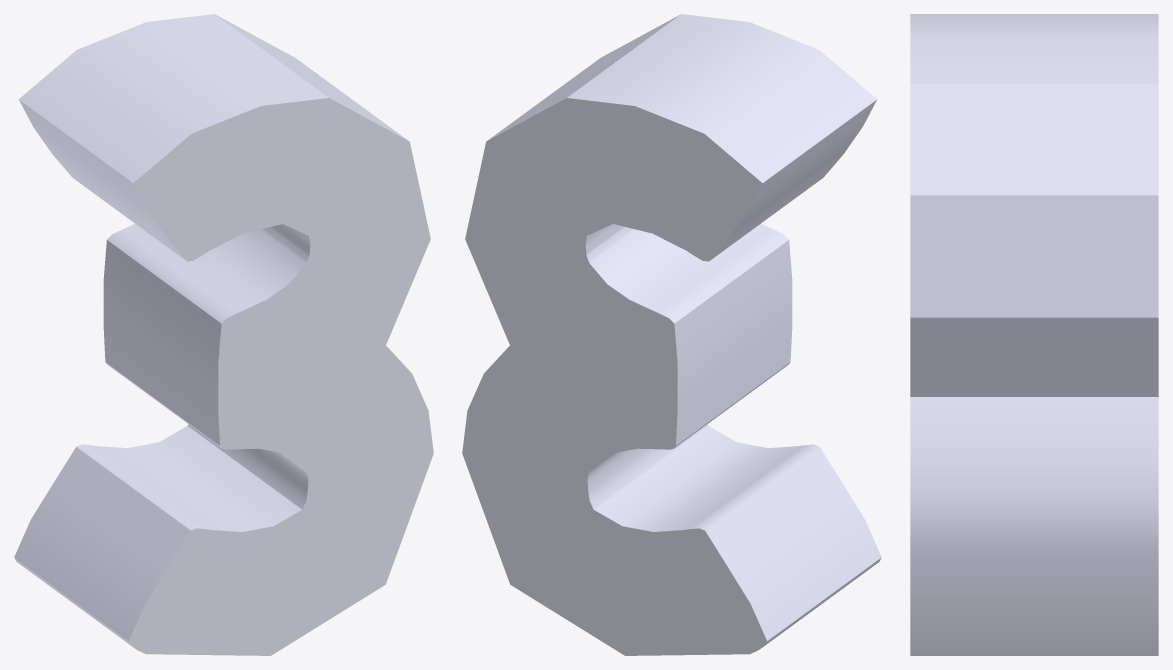
3 views of the same model, side by side, from view 1: azimuth 30°, elevation 25°; view 2: azimuth 150°, elevation 25°; view 3: azimuth 270°, elevation 25° (orthographic). The views are drawn at different scales.
Visible parts, largest first — view 1: 3_Zyzol_Grey; view 2: 3_Zyzol_Grey; view 3: 3_Zyzol_Grey.
Boxes of the visible parts, bbox=[...] form: 3_Zyzol_Grey: bbox=[14, 14, 433, 655]; 3_Zyzol_Grey: bbox=[462, 14, 881, 655]; 3_Zyzol_Grey: bbox=[910, 14, 1158, 655].
Size of what is drawn, in the model's own units: 0.0691 by 0.1196 by 0.045.
2 materials, 2 textured.
